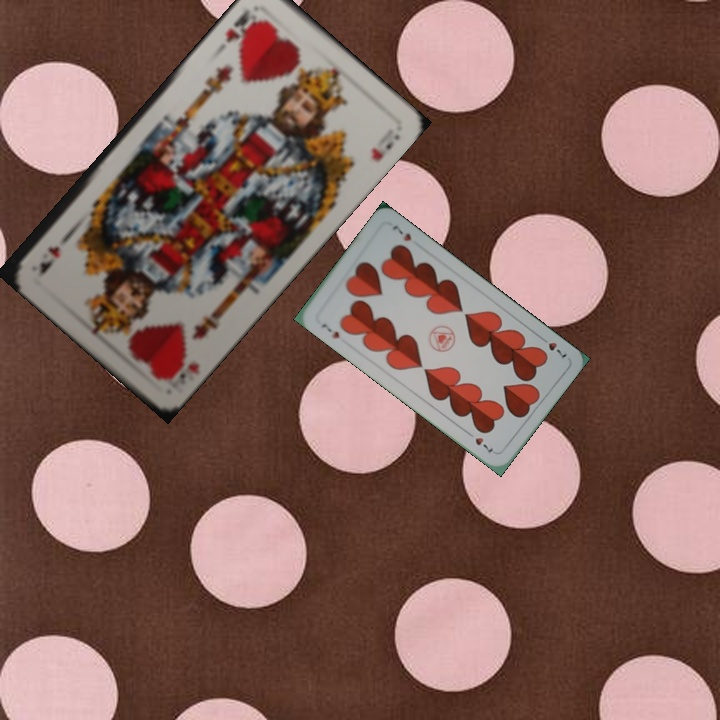H7: (535, 332, 571, 361), (317, 319, 342, 342)
HK: (221, 5, 263, 48), (162, 358, 203, 392)
